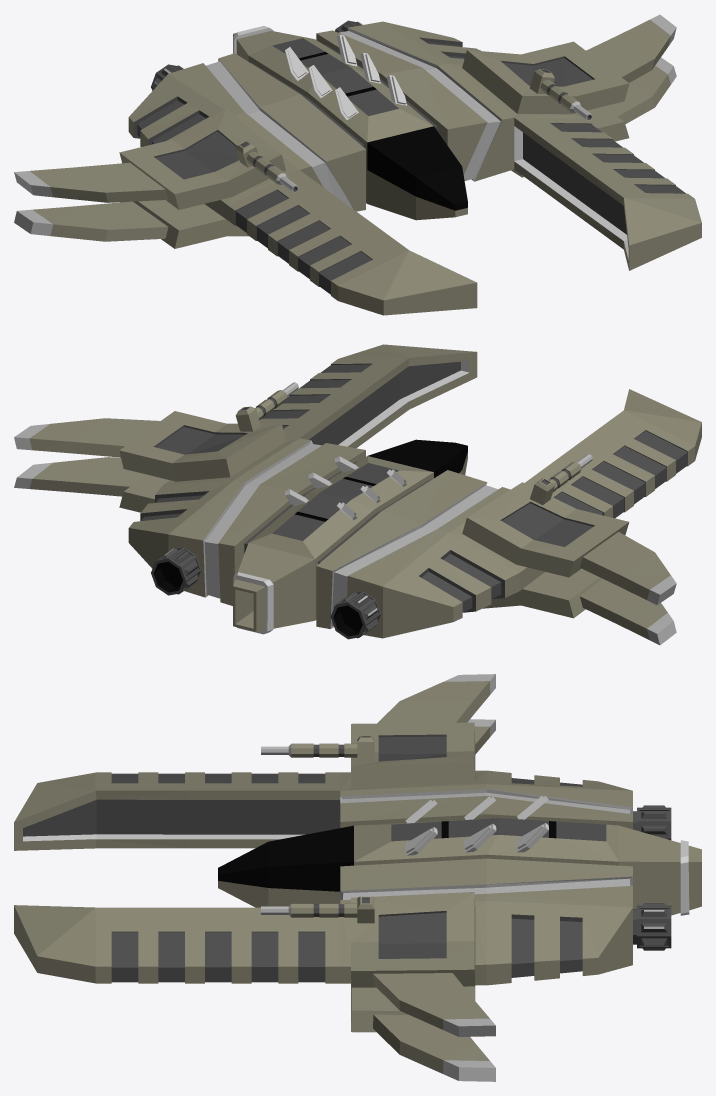
Rendered from Spaceship8_3.fbx.
The picture shows the model from 3 angles, top to bottom: view 1: azimuth 30°, elevation 25°; view 2: azimuth 150°, elevation 25°; view 3: azimuth 270°, elevation 25°; orthographic projection. The views are drawn at different scales.
Visible parts, largest first — view 1: Spaceship8_3; view 2: Spaceship8_3; view 3: Spaceship8_3.
Boxes of the visible parts, left/top/right/bottom form: Spaceship8_3: left=14, top=14, right=701, bottom=315; Spaceship8_3: left=14, top=344, right=701, bottom=645; Spaceship8_3: left=14, top=674, right=701, bottom=1081.
Bounding box in the file's own units: 1782 × 284 × 1474.
